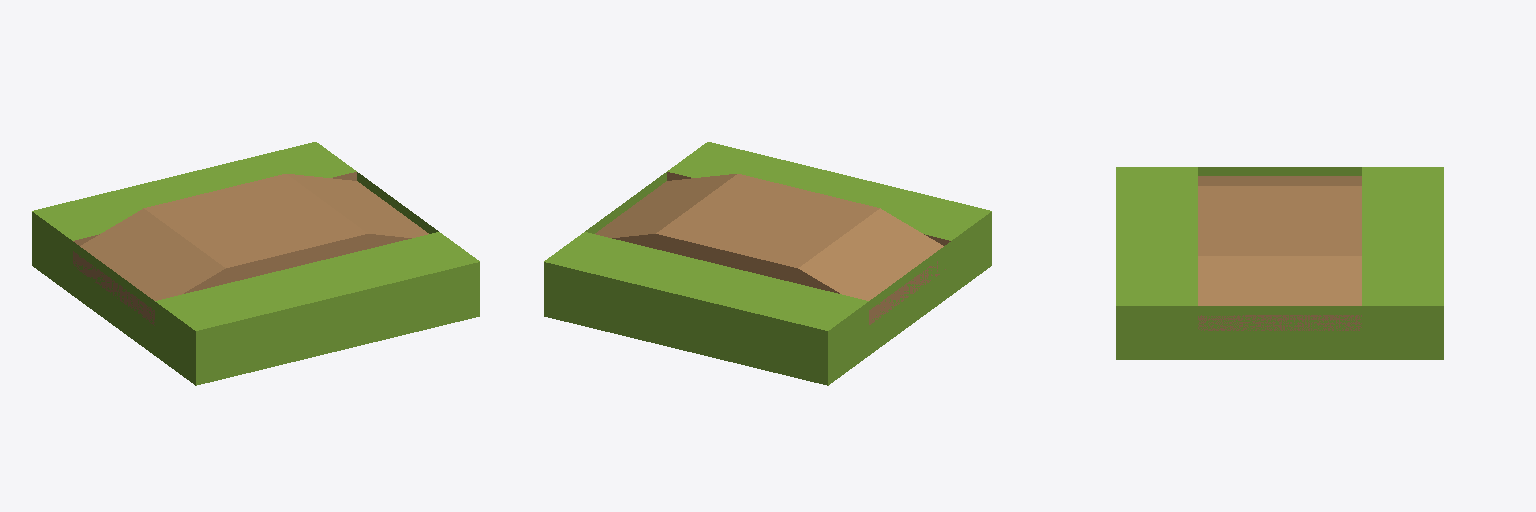
3 renders of one model, left to right at view 1: azimuth 30°, elevation 25°; view 2: azimuth 150°, elevation 25°; view 3: azimuth 270°, elevation 25°, orthographic.
Parts seen in each view (by area): view 1: roadTile_024.001; view 2: roadTile_024.001; view 3: roadTile_024.001.
Boxes of the visible parts, box(x1,y1,x2,y2) form: roadTile_024.001: box(32, 142, 479, 385); roadTile_024.001: box(544, 142, 991, 385); roadTile_024.001: box(1116, 167, 1443, 359).
Bounding box in the file's own units: 3 × 0.705 × 3.